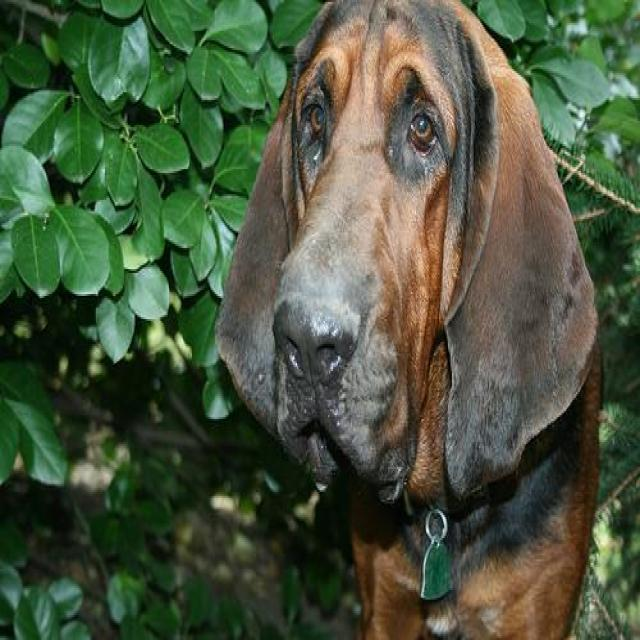bloodhound: (215, 0, 603, 638)
